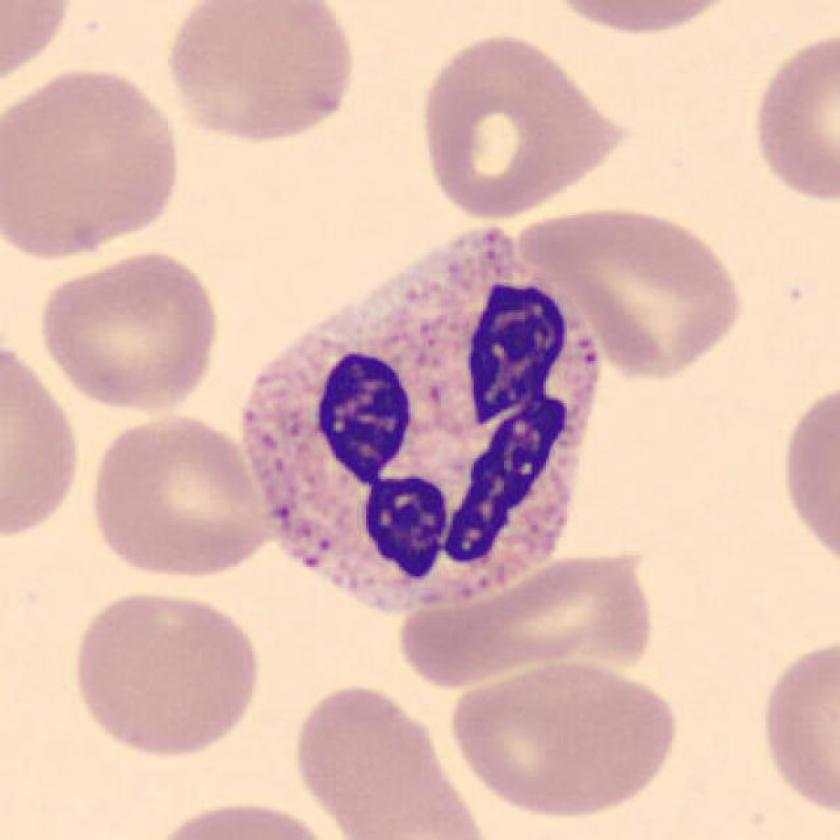neutrophil: (241, 232, 602, 611)
